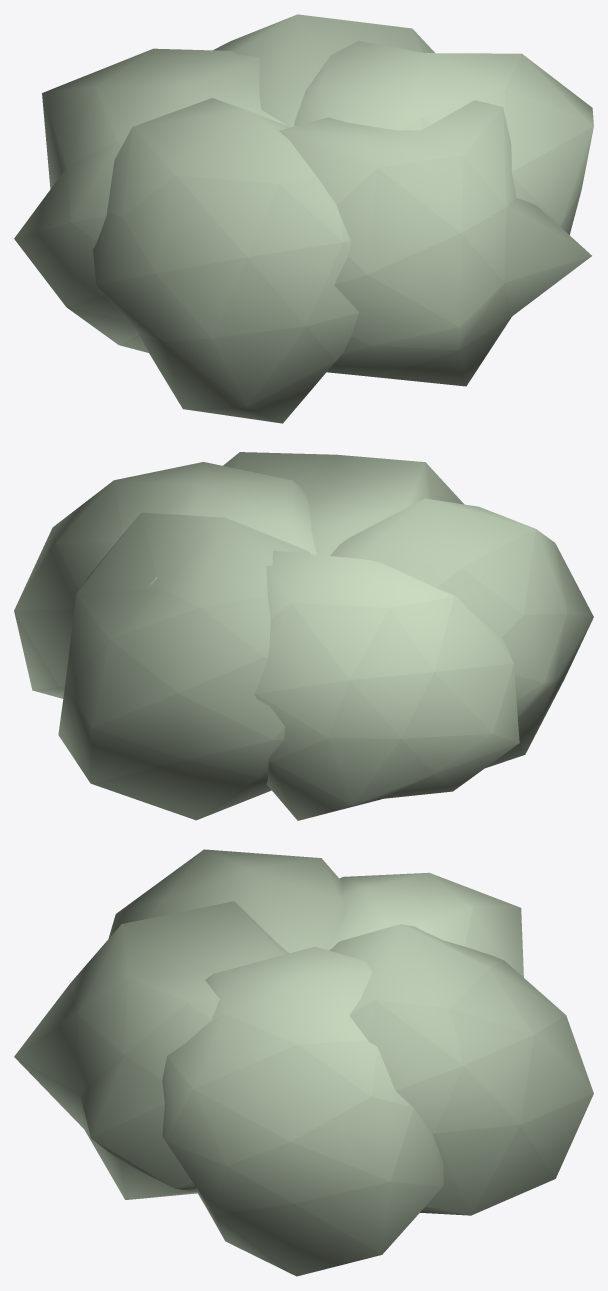
Rendered from krzak.glb.
The picture shows the model from 3 angles, top to bottom: view 1: azimuth 30°, elevation 25°; view 2: azimuth 150°, elevation 25°; view 3: azimuth 270°, elevation 25°; orthographic projection. The views are drawn at different scales.
Parts seen in each view (by area): view 1: krzak; view 2: krzak; view 3: krzak.
Boxes of the visible parts, x1,y1,x2,y2 form: krzak: (14, 14, 593, 423); krzak: (14, 452, 593, 820); krzak: (14, 849, 593, 1276).
Size of the model in its own units: 1.91 by 1.02 by 1.91.
